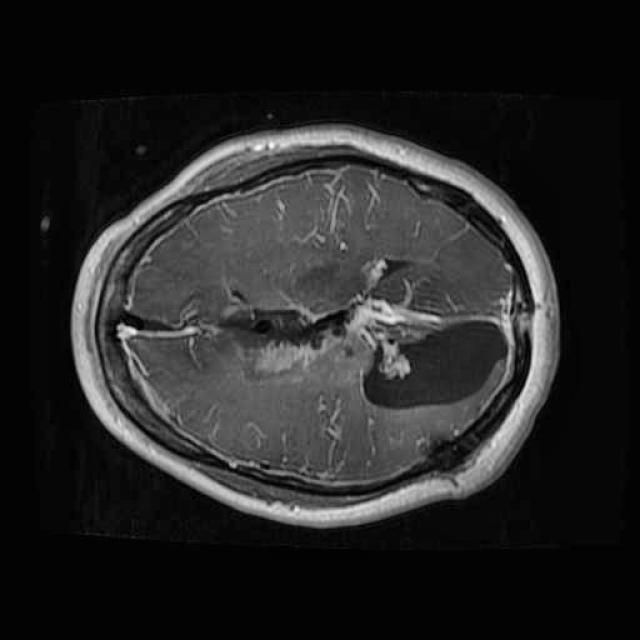Non-Tumor: (201, 244, 528, 435)
